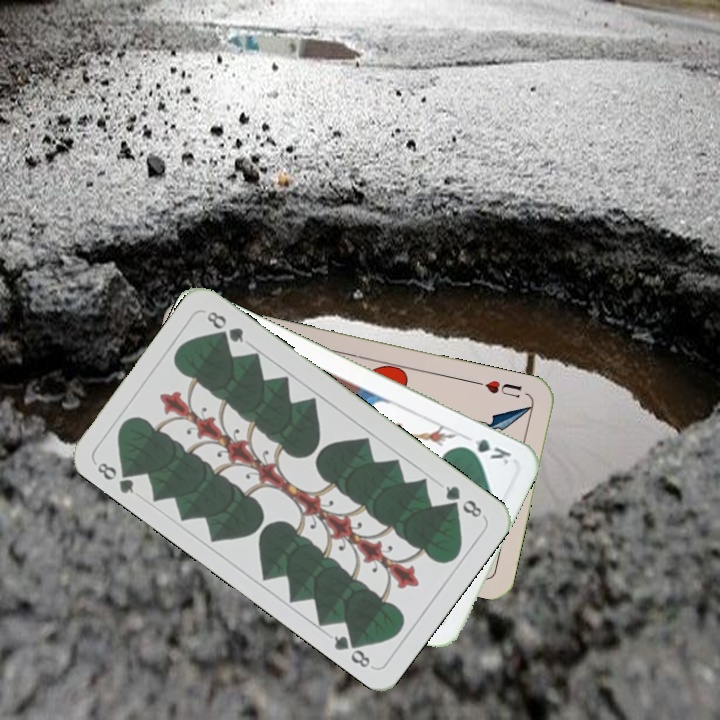G8: (441, 481, 486, 521), (93, 458, 138, 497)
GK: (457, 431, 514, 467)
HU: (471, 376, 525, 401)
